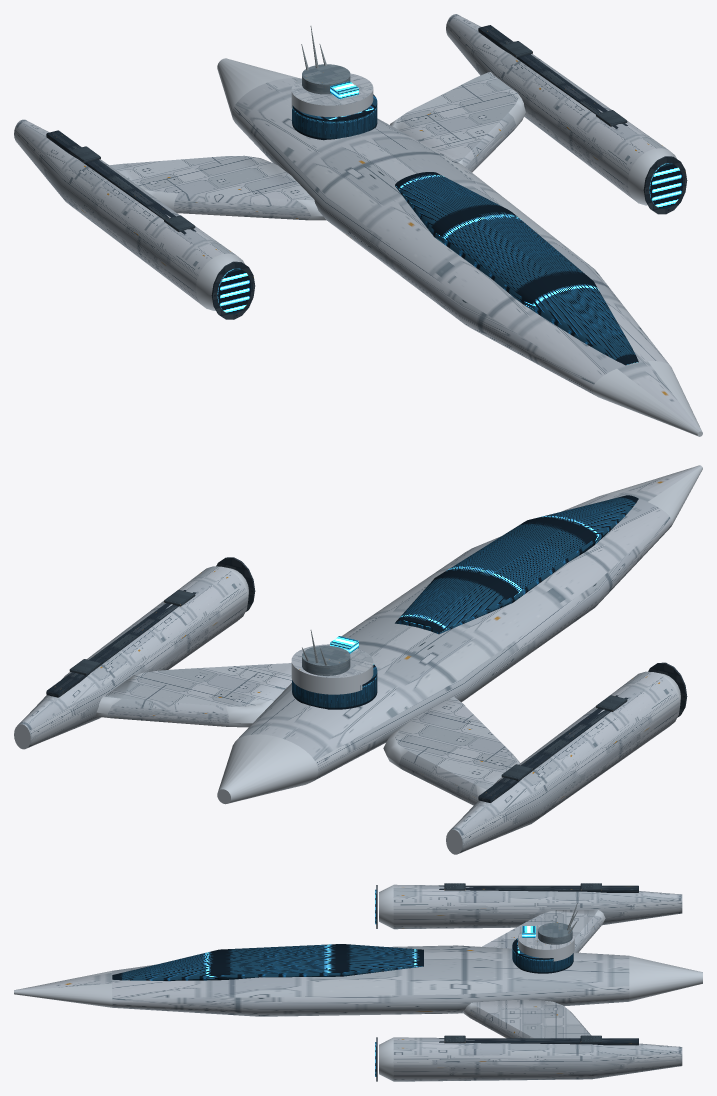
The model's file is alliance_courier_recreated_dock_probe.glb.
3 renders of one model, top to bottom at view 1: azimuth 30°, elevation 25°; view 2: azimuth 150°, elevation 25°; view 3: azimuth 270°, elevation 25°, orthographic. The views are drawn at different scales.
Parts seen in each view (by area): view 1: alliance_courier_recreated; view 2: alliance_courier_recreated; view 3: alliance_courier_recreated.
Boxes of the visible parts, x1=… form: alliance_courier_recreated: x1=14, y1=14, x2=702, y2=436; alliance_courier_recreated: x1=14, y1=465, x2=702, y2=854; alliance_courier_recreated: x1=14, y1=883, x2=702, y2=1081.
Size of the model in its own units: 1.11 by 0.3117 by 1.89.
Materials: 1 (1 with a texture image).
